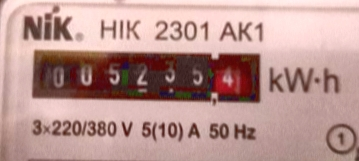0: (49, 62, 65, 88), (77, 61, 93, 86)
2: (132, 60, 149, 86)
3: (159, 58, 177, 83)
4: (217, 60, 236, 90)
5: (187, 58, 204, 87), (105, 60, 120, 85)
screen: (17, 33, 270, 115)
